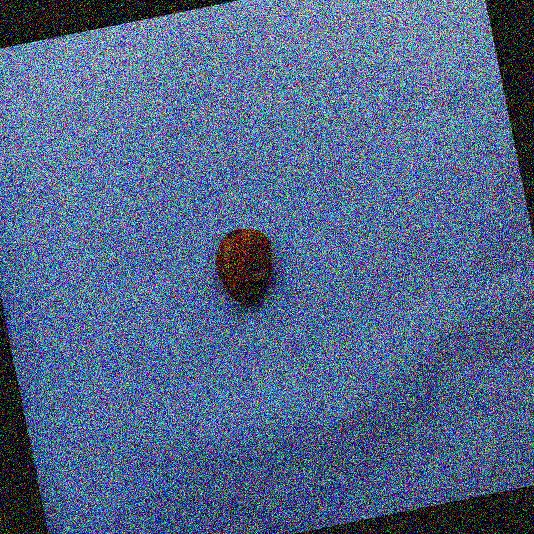grade3: (208, 220, 286, 312)
